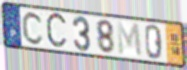0: (144, 23, 163, 61)
3: (71, 14, 91, 53)
8: (94, 18, 117, 55)
C: (45, 10, 69, 51), (21, 10, 45, 46)
M: (115, 20, 144, 59)
